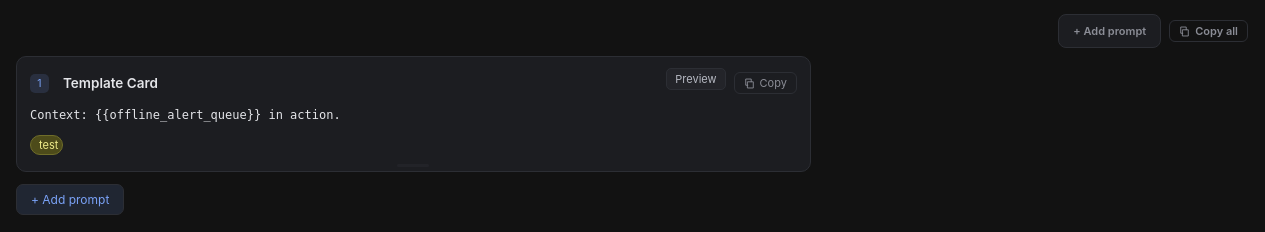
it: PromptCards prompt template variable autocomplete & preview substitution › toggles preview substitution in prompt card view
Expected: the list item is shown, left=16, top=56, right=811, bottom=172
Expected: the text with class "card-body" shows "{{offline_alert_queue}}", left=30, top=108, right=341, bottom=122
Click the button "Preview": (696, 79) left=666, top=68, right=726, bottom=90
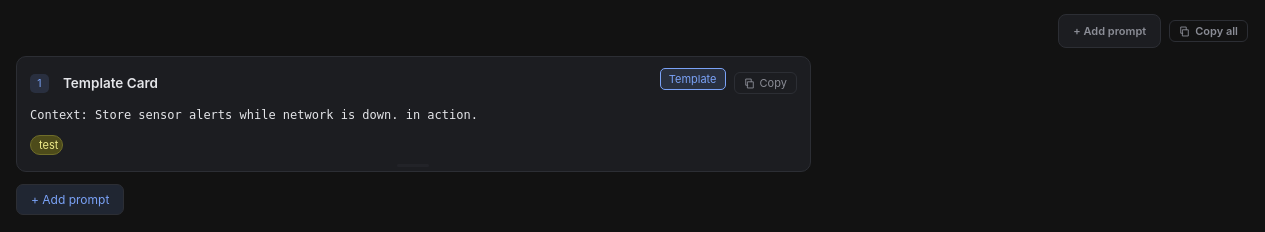
Result: the text with class "card-body" shows "Store sensor alerts while network is down." at left=30, top=108, right=478, bottom=122
